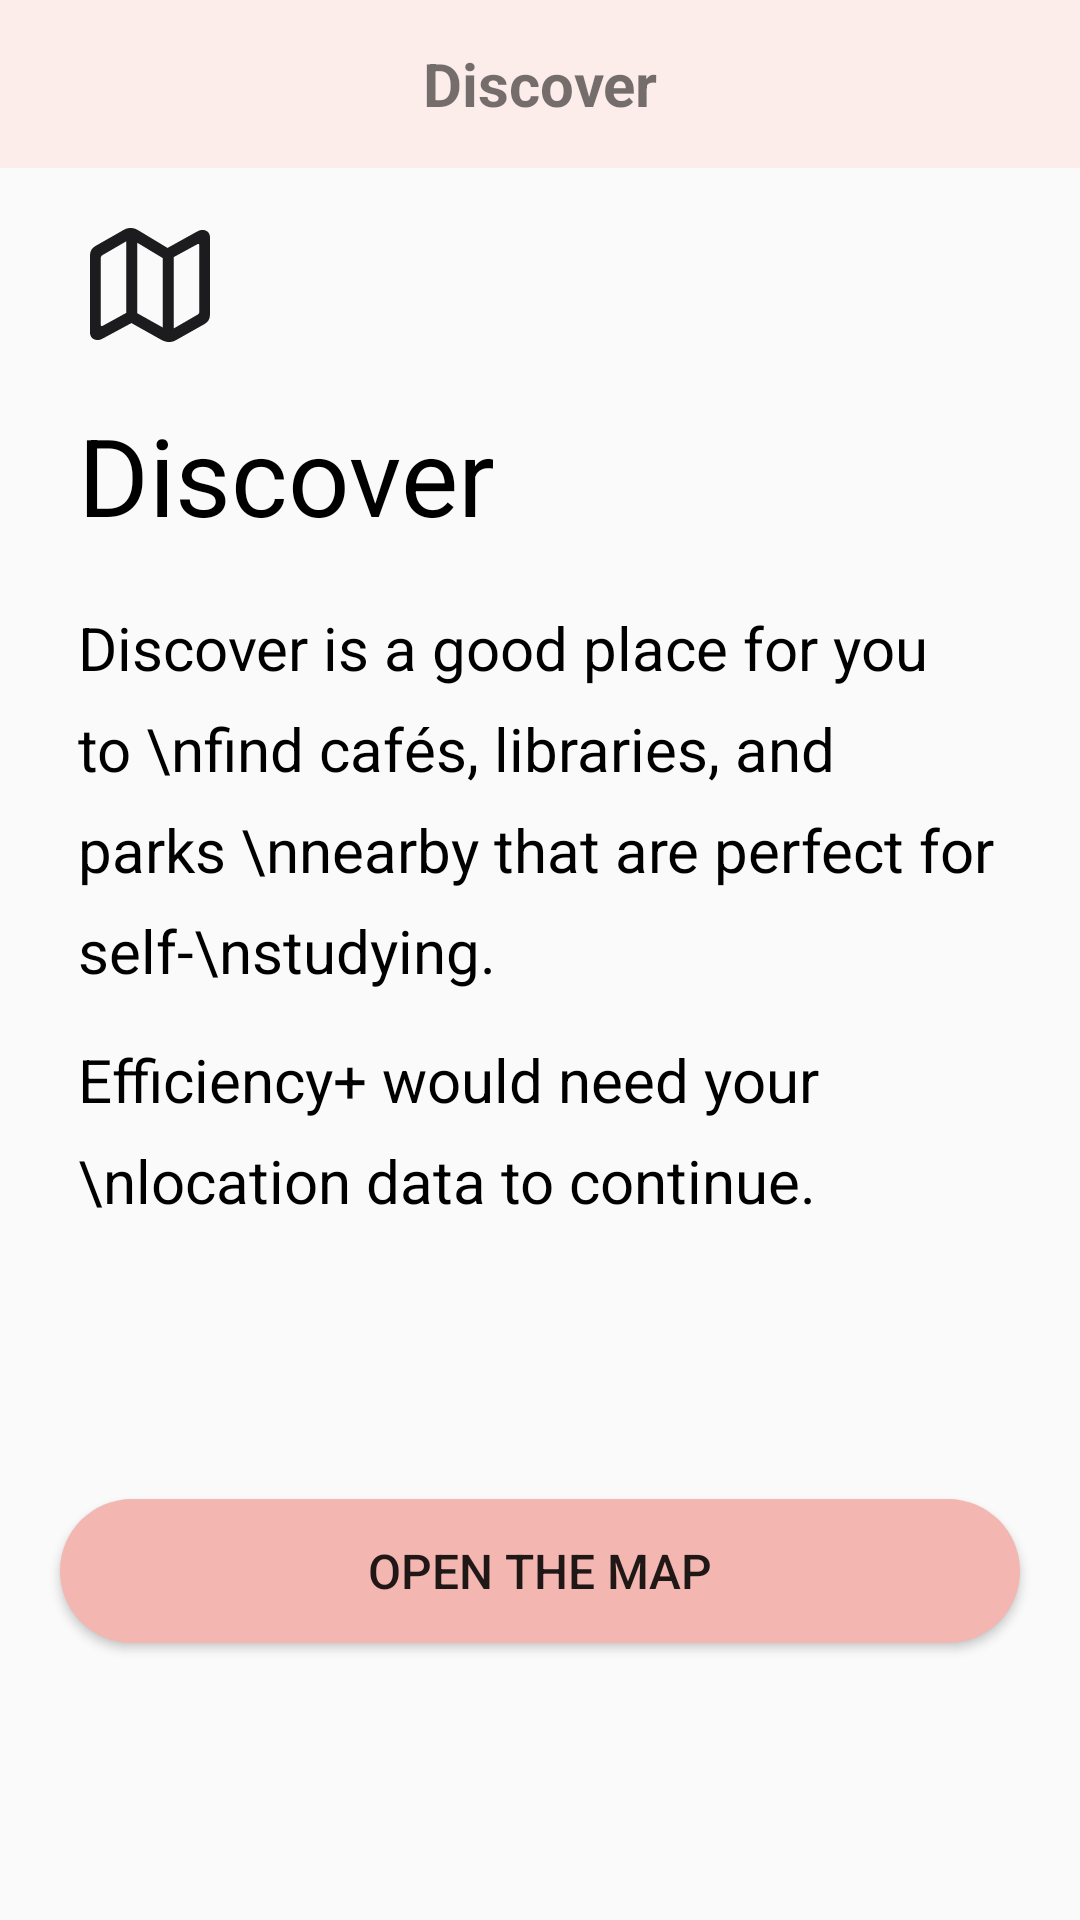

Icons on this 1080px×1920px Android screen, each with the point to tap as point (x, y):
map info: point (150, 285)
